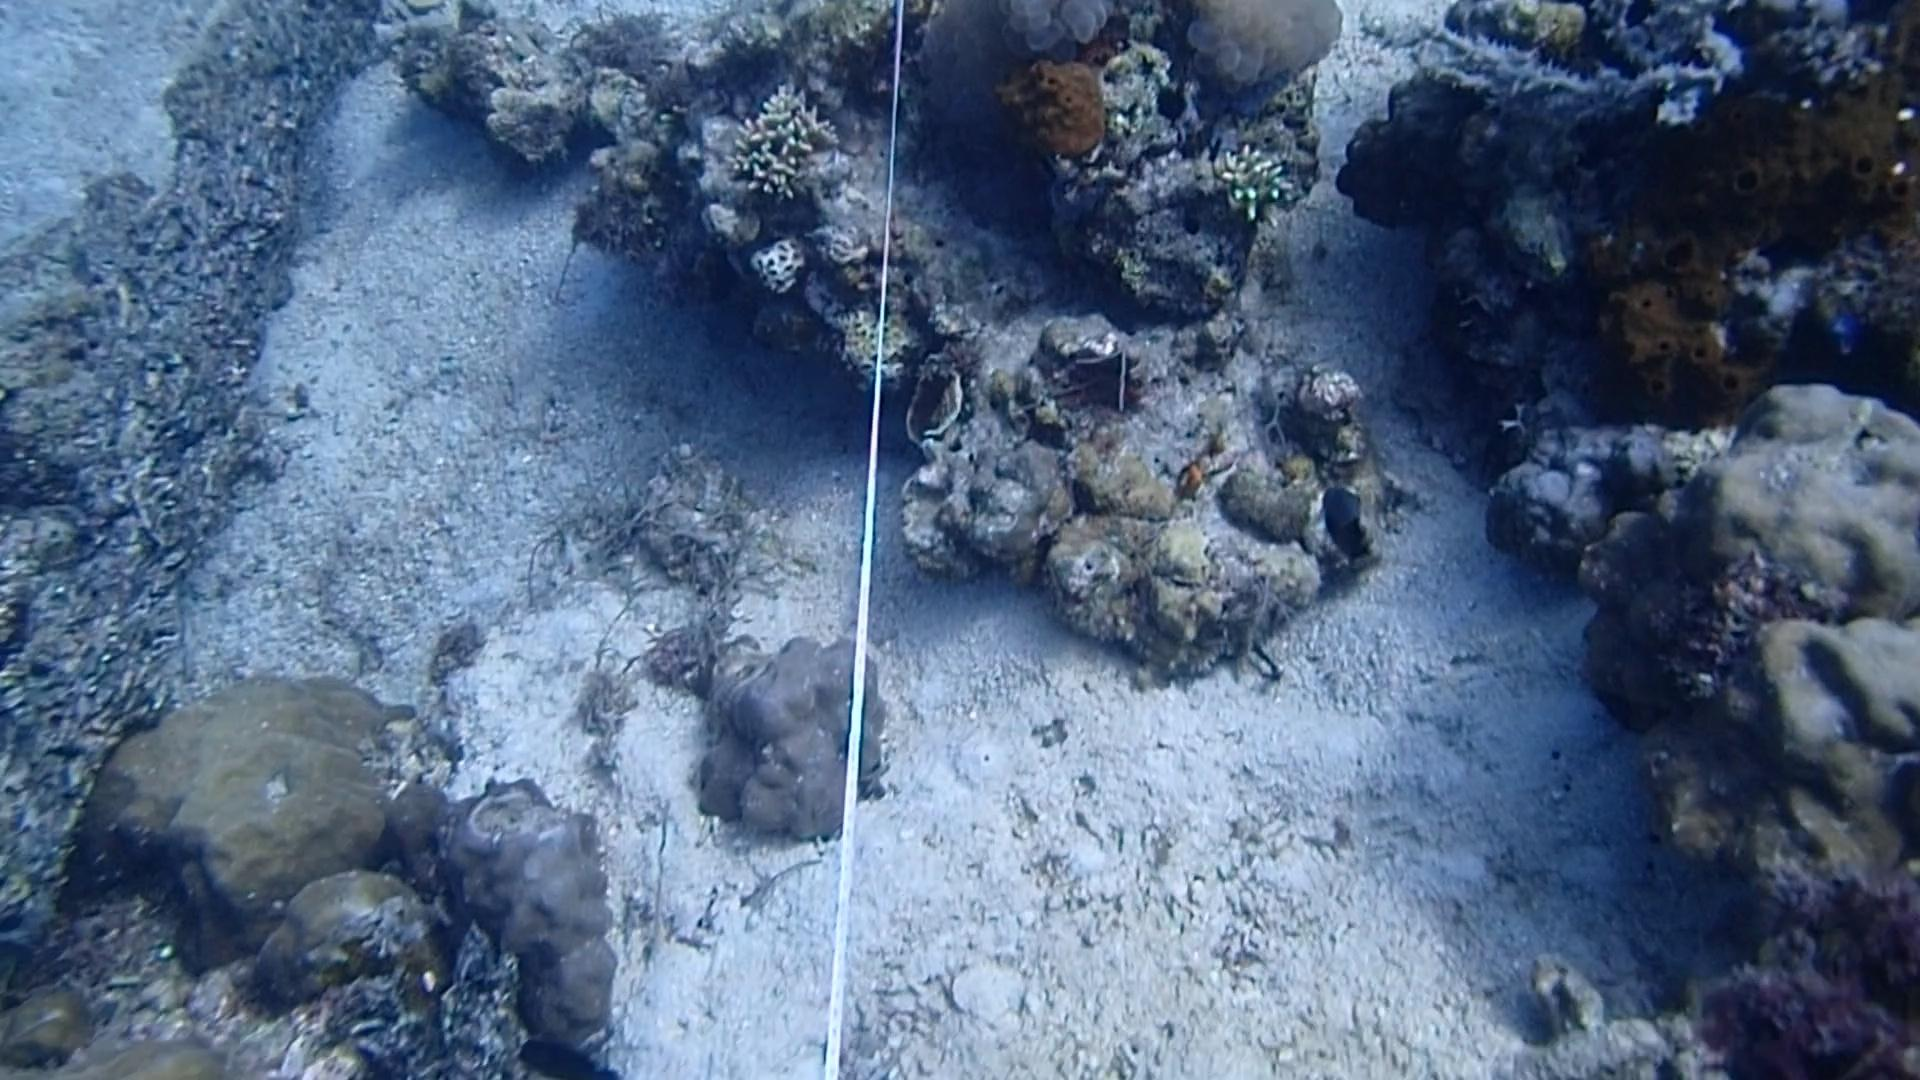Big Dark Blue Fish: (1305, 481, 1394, 564)
Dark Fish: (510, 1027, 625, 1080)
